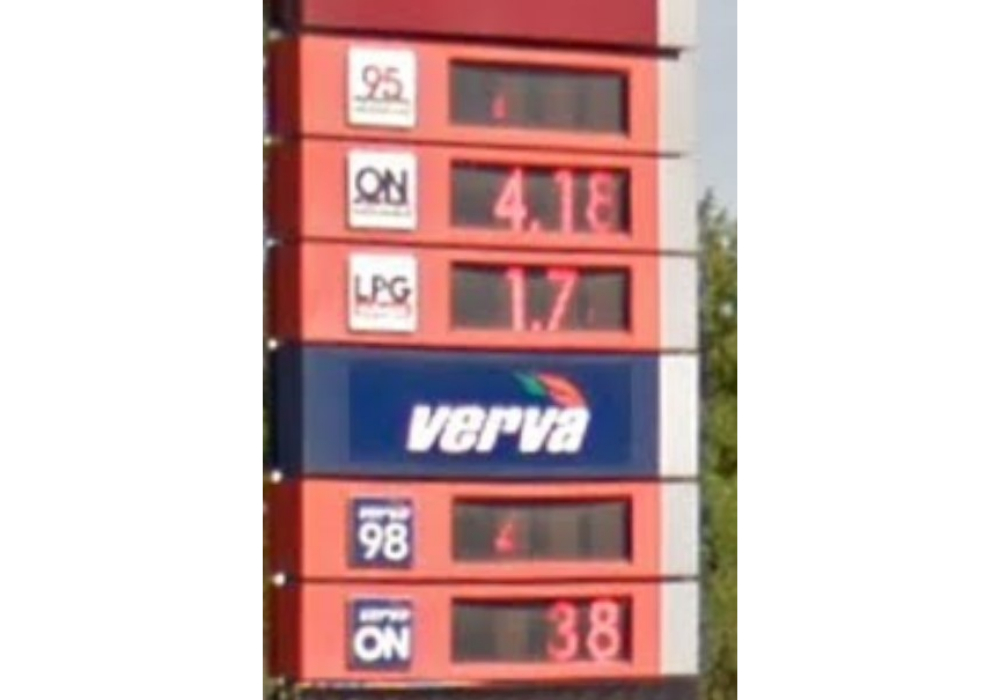LPG: (343, 250, 421, 334)
ON: (341, 145, 421, 231), (342, 594, 419, 672)
PB95: (340, 42, 421, 131)
PB98: (347, 495, 414, 568)
